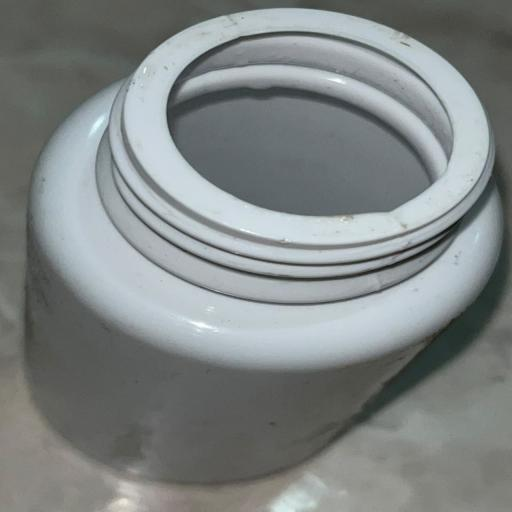HDPE: (16, 12, 512, 493)
